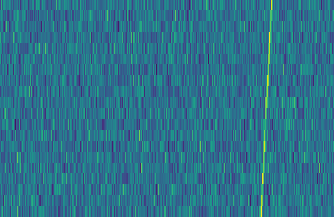signal: (258, 0, 278, 217)
